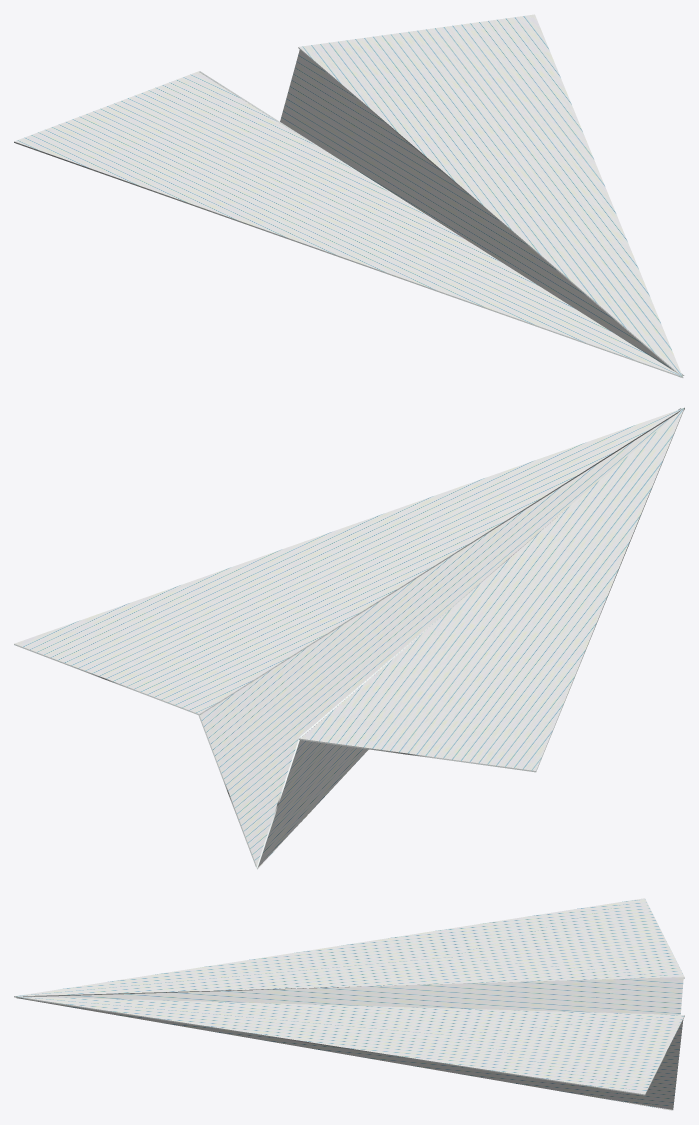
Rendered from paperPlane.gltf.
3 renders of one model, top to bottom at view 1: azimuth 30°, elevation 25°; view 2: azimuth 150°, elevation 25°; view 3: azimuth 270°, elevation 25°, orthographic. The views are drawn at different scales.
Parts seen in each view (by area): view 1: rightWing, leftWing, Cylinder; view 2: leftWing, rightWing, Cylinder (×2); view 3: leftWing, rightWing, Cylinder (×2).
Part boxes in pixels (x1=…): rightWing: x1=14, y1=71, x2=683, y2=377; leftWing: x1=298, y1=14, x2=682, y2=377; Cylinder: x1=280, y1=50, x2=684, y2=375; leftWing: x1=14, y1=407, x2=684, y2=715; rightWing: x1=299, y1=408, x2=684, y2=772; Cylinder (×2): x1=198, y1=408, x2=684, y2=869; leftWing: x1=15, y1=996, x2=684, y2=1095; rightWing: x1=14, y1=898, x2=684, y2=997; Cylinder (×2): x1=16, y1=977, x2=683, y2=1110.
Bounding box in the file's own units: 4.19 × 1.14 × 6.05.
Materials: 3 (3 with a texture image).
